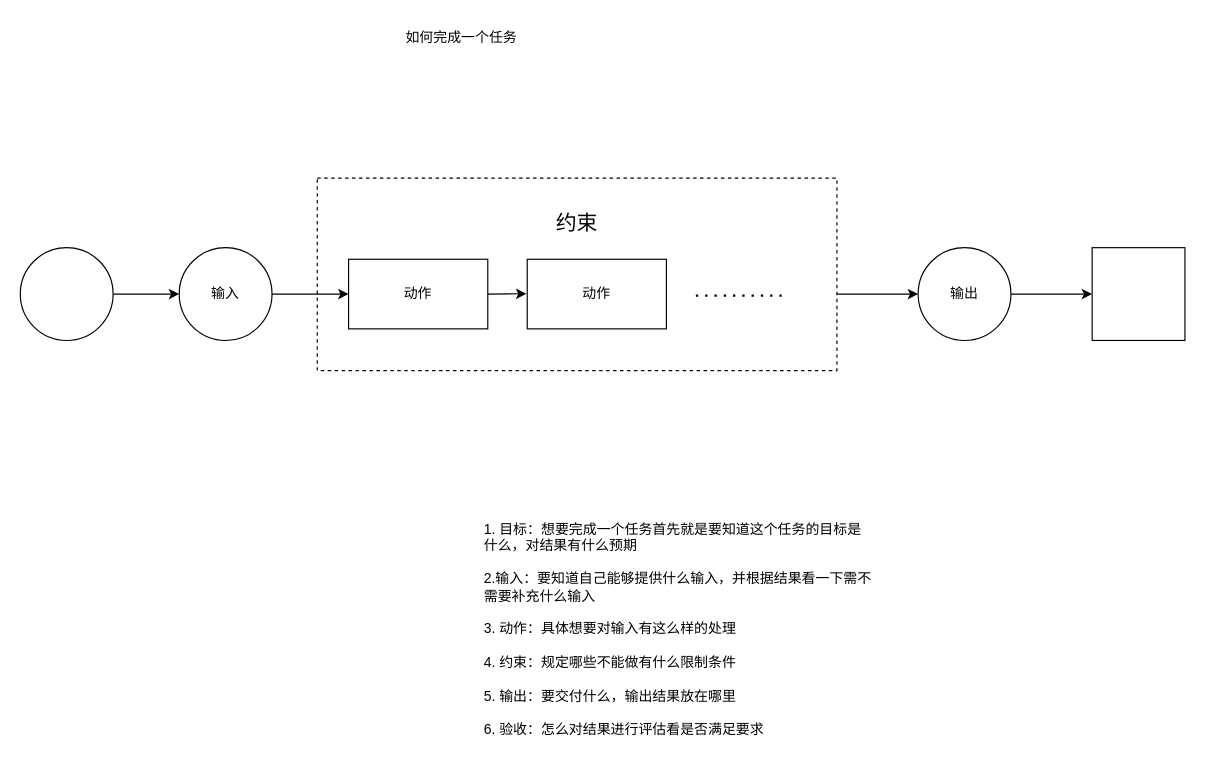
The diagram is 1205 pixels wide and 770 high, and some of its shapes have lost their labels. The centre of each missing label's shape, as x and y in pixels:
目标: (66,293)
验收: (1138,293)
